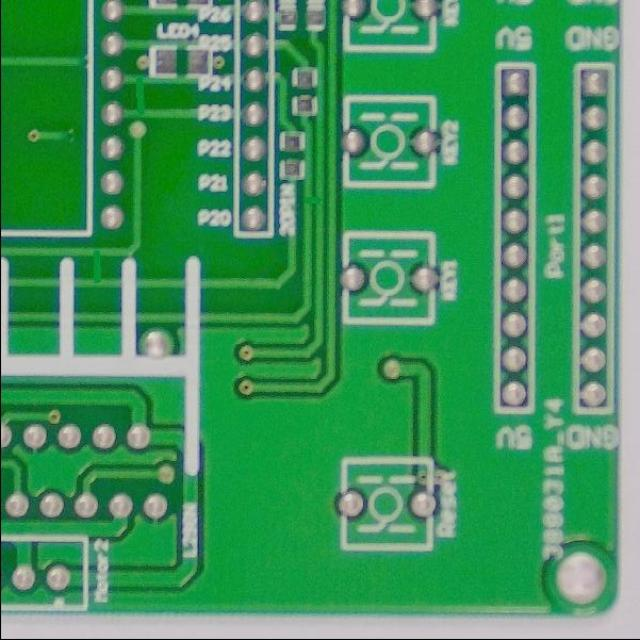Short_Circuit: (78, 241, 113, 294), (124, 68, 156, 123), (299, 187, 328, 212)
